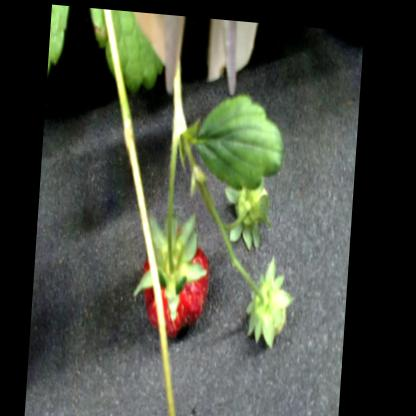ripe: (140, 218, 217, 340)
unripe: (253, 274, 295, 338)
